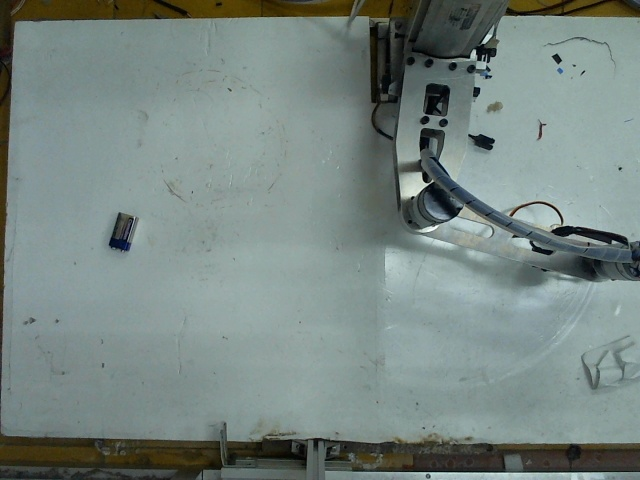battery: (109, 207, 133, 248)
